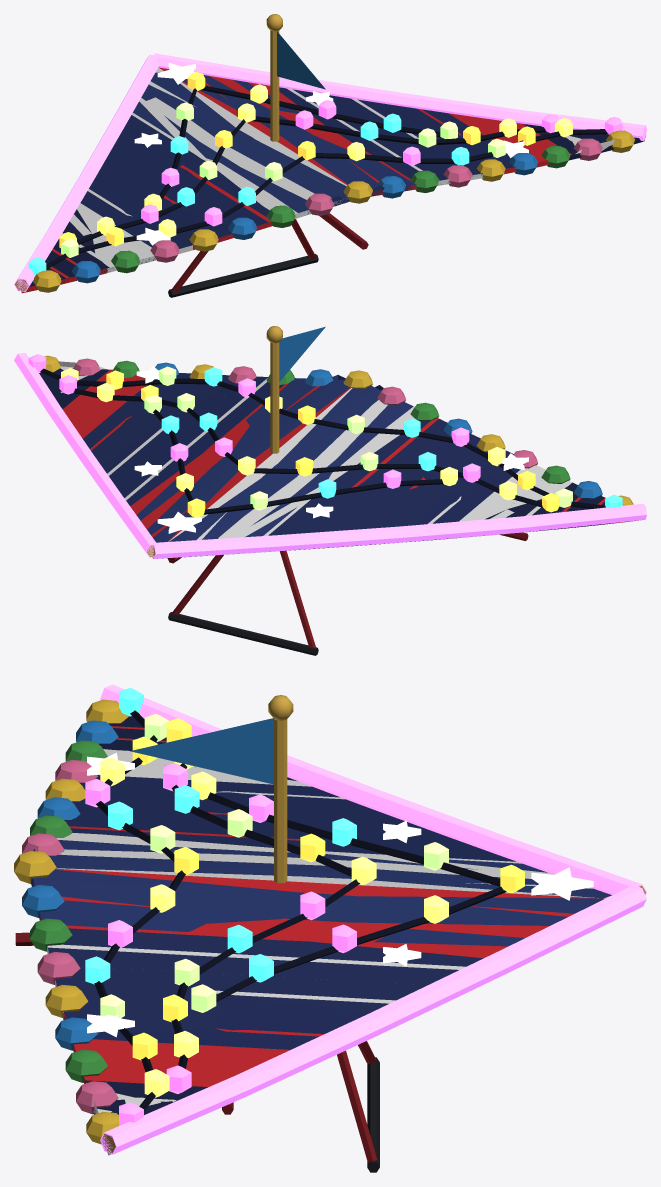
The model's file is 2026-11-24_deltaplane.glb.
3 views of the same model, one above another, from view 1: azimuth 30°, elevation 25°; view 2: azimuth 150°, elevation 25°; view 3: azimuth 270°, elevation 25° (orthographic). The views are drawn at different scales.
Visible parts, largest first — view 1: deltaplane_nuit_de_foire, deltaplane_chapiteau_volant; view 2: deltaplane_nuit_de_foire, deltaplane_chapiteau_volant; view 3: deltaplane_nuit_de_foire, deltaplane_chapiteau_volant.
Part boxes in pixels (x1,y1,x2,y2): deltaplane_nuit_de_foire: (14,53,646,291); deltaplane_chapiteau_volant: (15,14,645,297); deltaplane_nuit_de_foire: (14,352,646,558); deltaplane_chapiteau_volant: (40,326,641,655); deltaplane_nuit_de_foire: (31,684,646,1154); deltaplane_chapiteau_volant: (14,695,645,1172).
Bounding box in the file's own units: 4.06 × 1.76 × 2.39.
